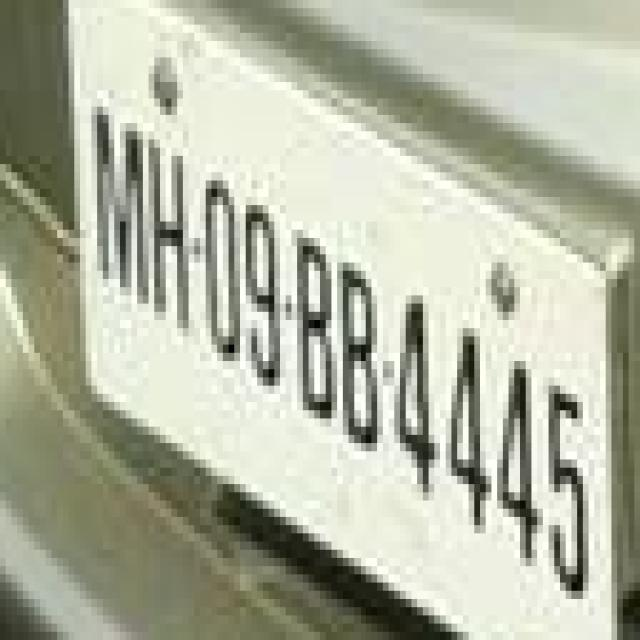license_plate: (85, 49, 606, 542)
